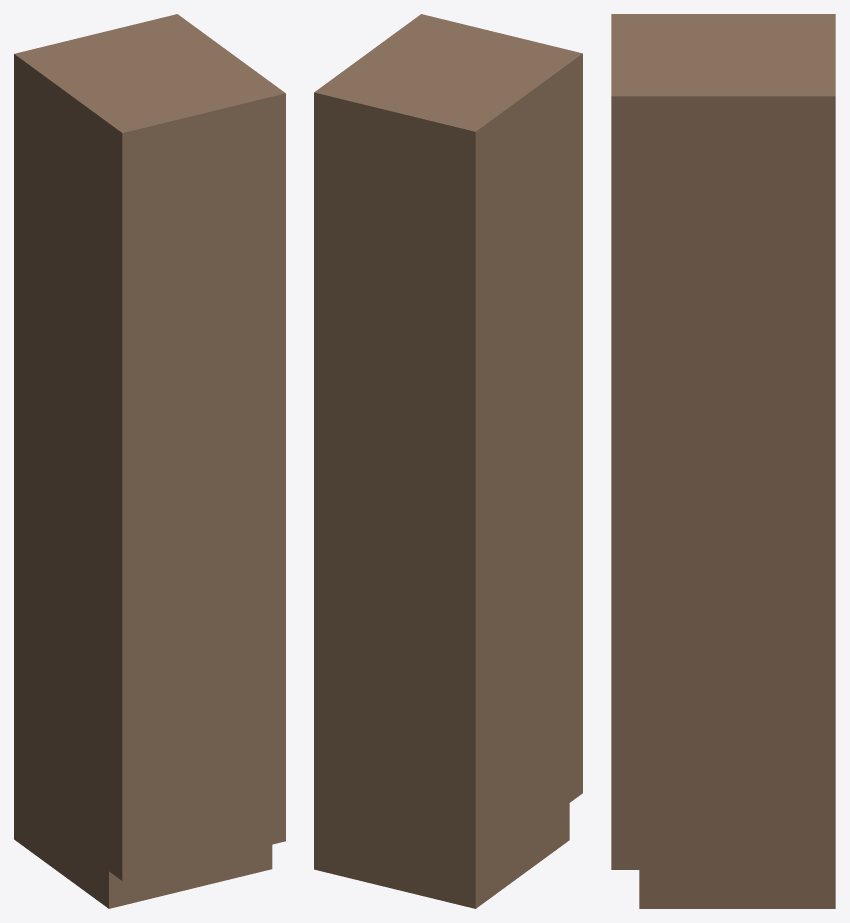
Rendered from tall_cabinet_01.obj.
3 renders of one model, left to right at view 1: azimuth 30°, elevation 25°; view 2: azimuth 150°, elevation 25°; view 3: azimuth 270°, elevation 25°, orthographic. The views are drawn at different scales.
Parts seen in each view (by area): view 1: tall_cabinet_01; view 2: tall_cabinet_01; view 3: tall_cabinet_01.
Part boxes in pixels (x1=…): tall_cabinet_01: x1=14, y1=14, x2=285, y2=908; tall_cabinet_01: x1=314, y1=14, x2=582, y2=908; tall_cabinet_01: x1=611, y1=14, x2=835, y2=908.
Size of the model in its own units: 533 by 2451 by 613.
